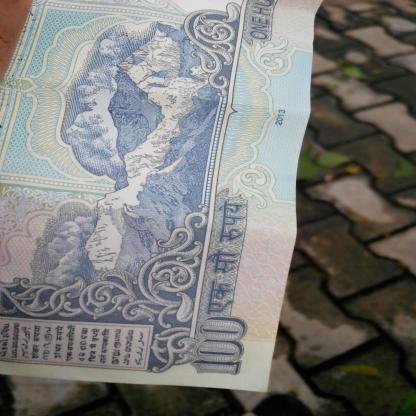Old100Back: (0, 0, 323, 392)
